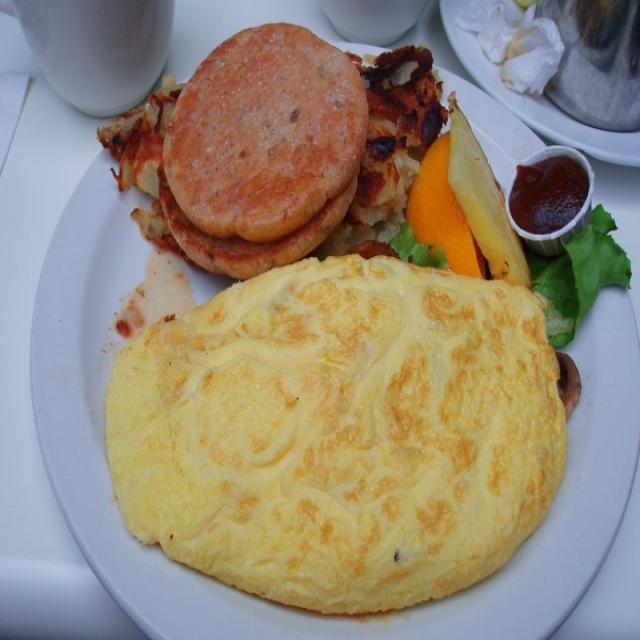Omelet: (102, 250, 568, 612)
